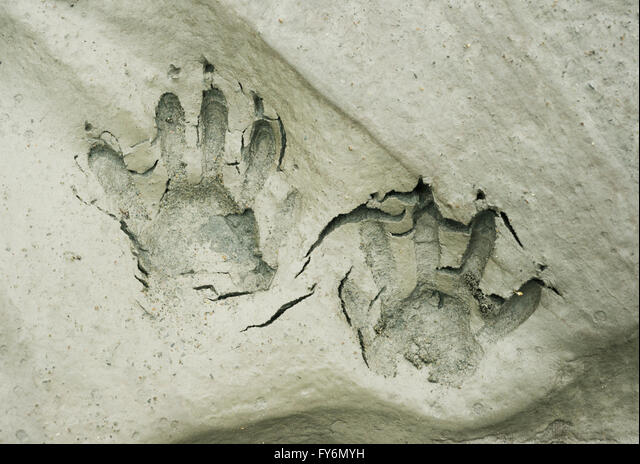raccoon: (39, 53, 313, 323), (327, 154, 557, 396)
